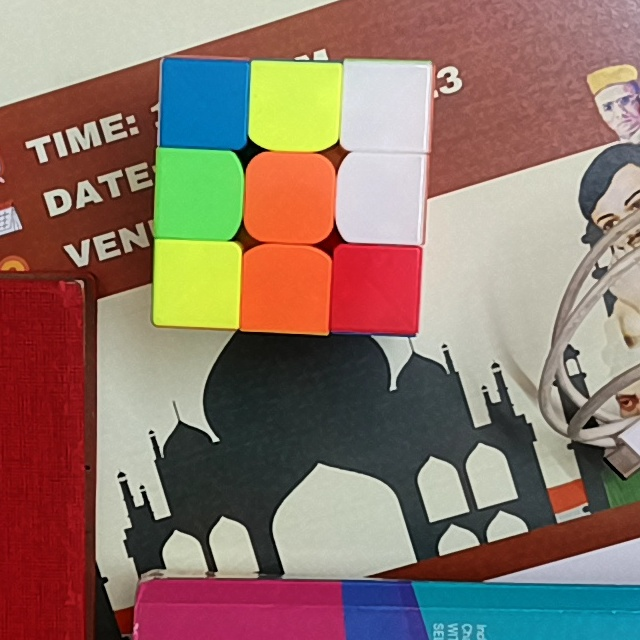tile: (167, 67, 243, 144), (254, 67, 334, 138), (159, 244, 234, 319), (160, 155, 232, 232), (351, 67, 422, 143), (342, 251, 413, 325), (250, 253, 320, 325), (349, 160, 418, 233), (255, 161, 325, 232)
